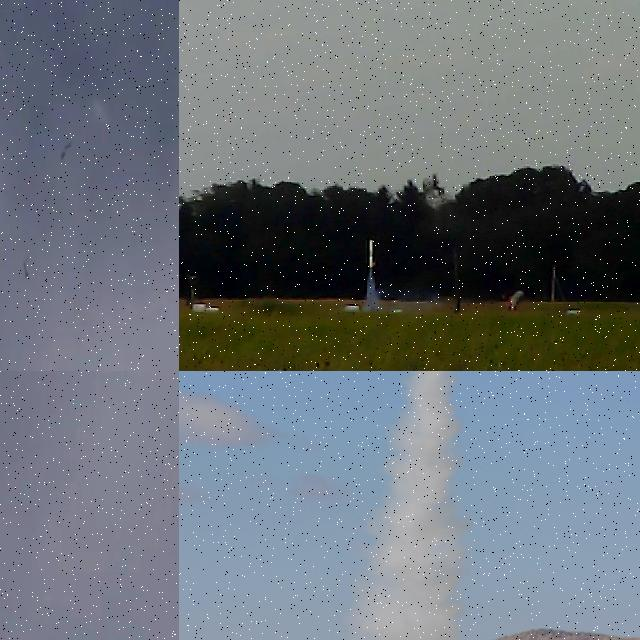Rocket: (368, 239, 376, 268), (23, 262, 29, 278)
